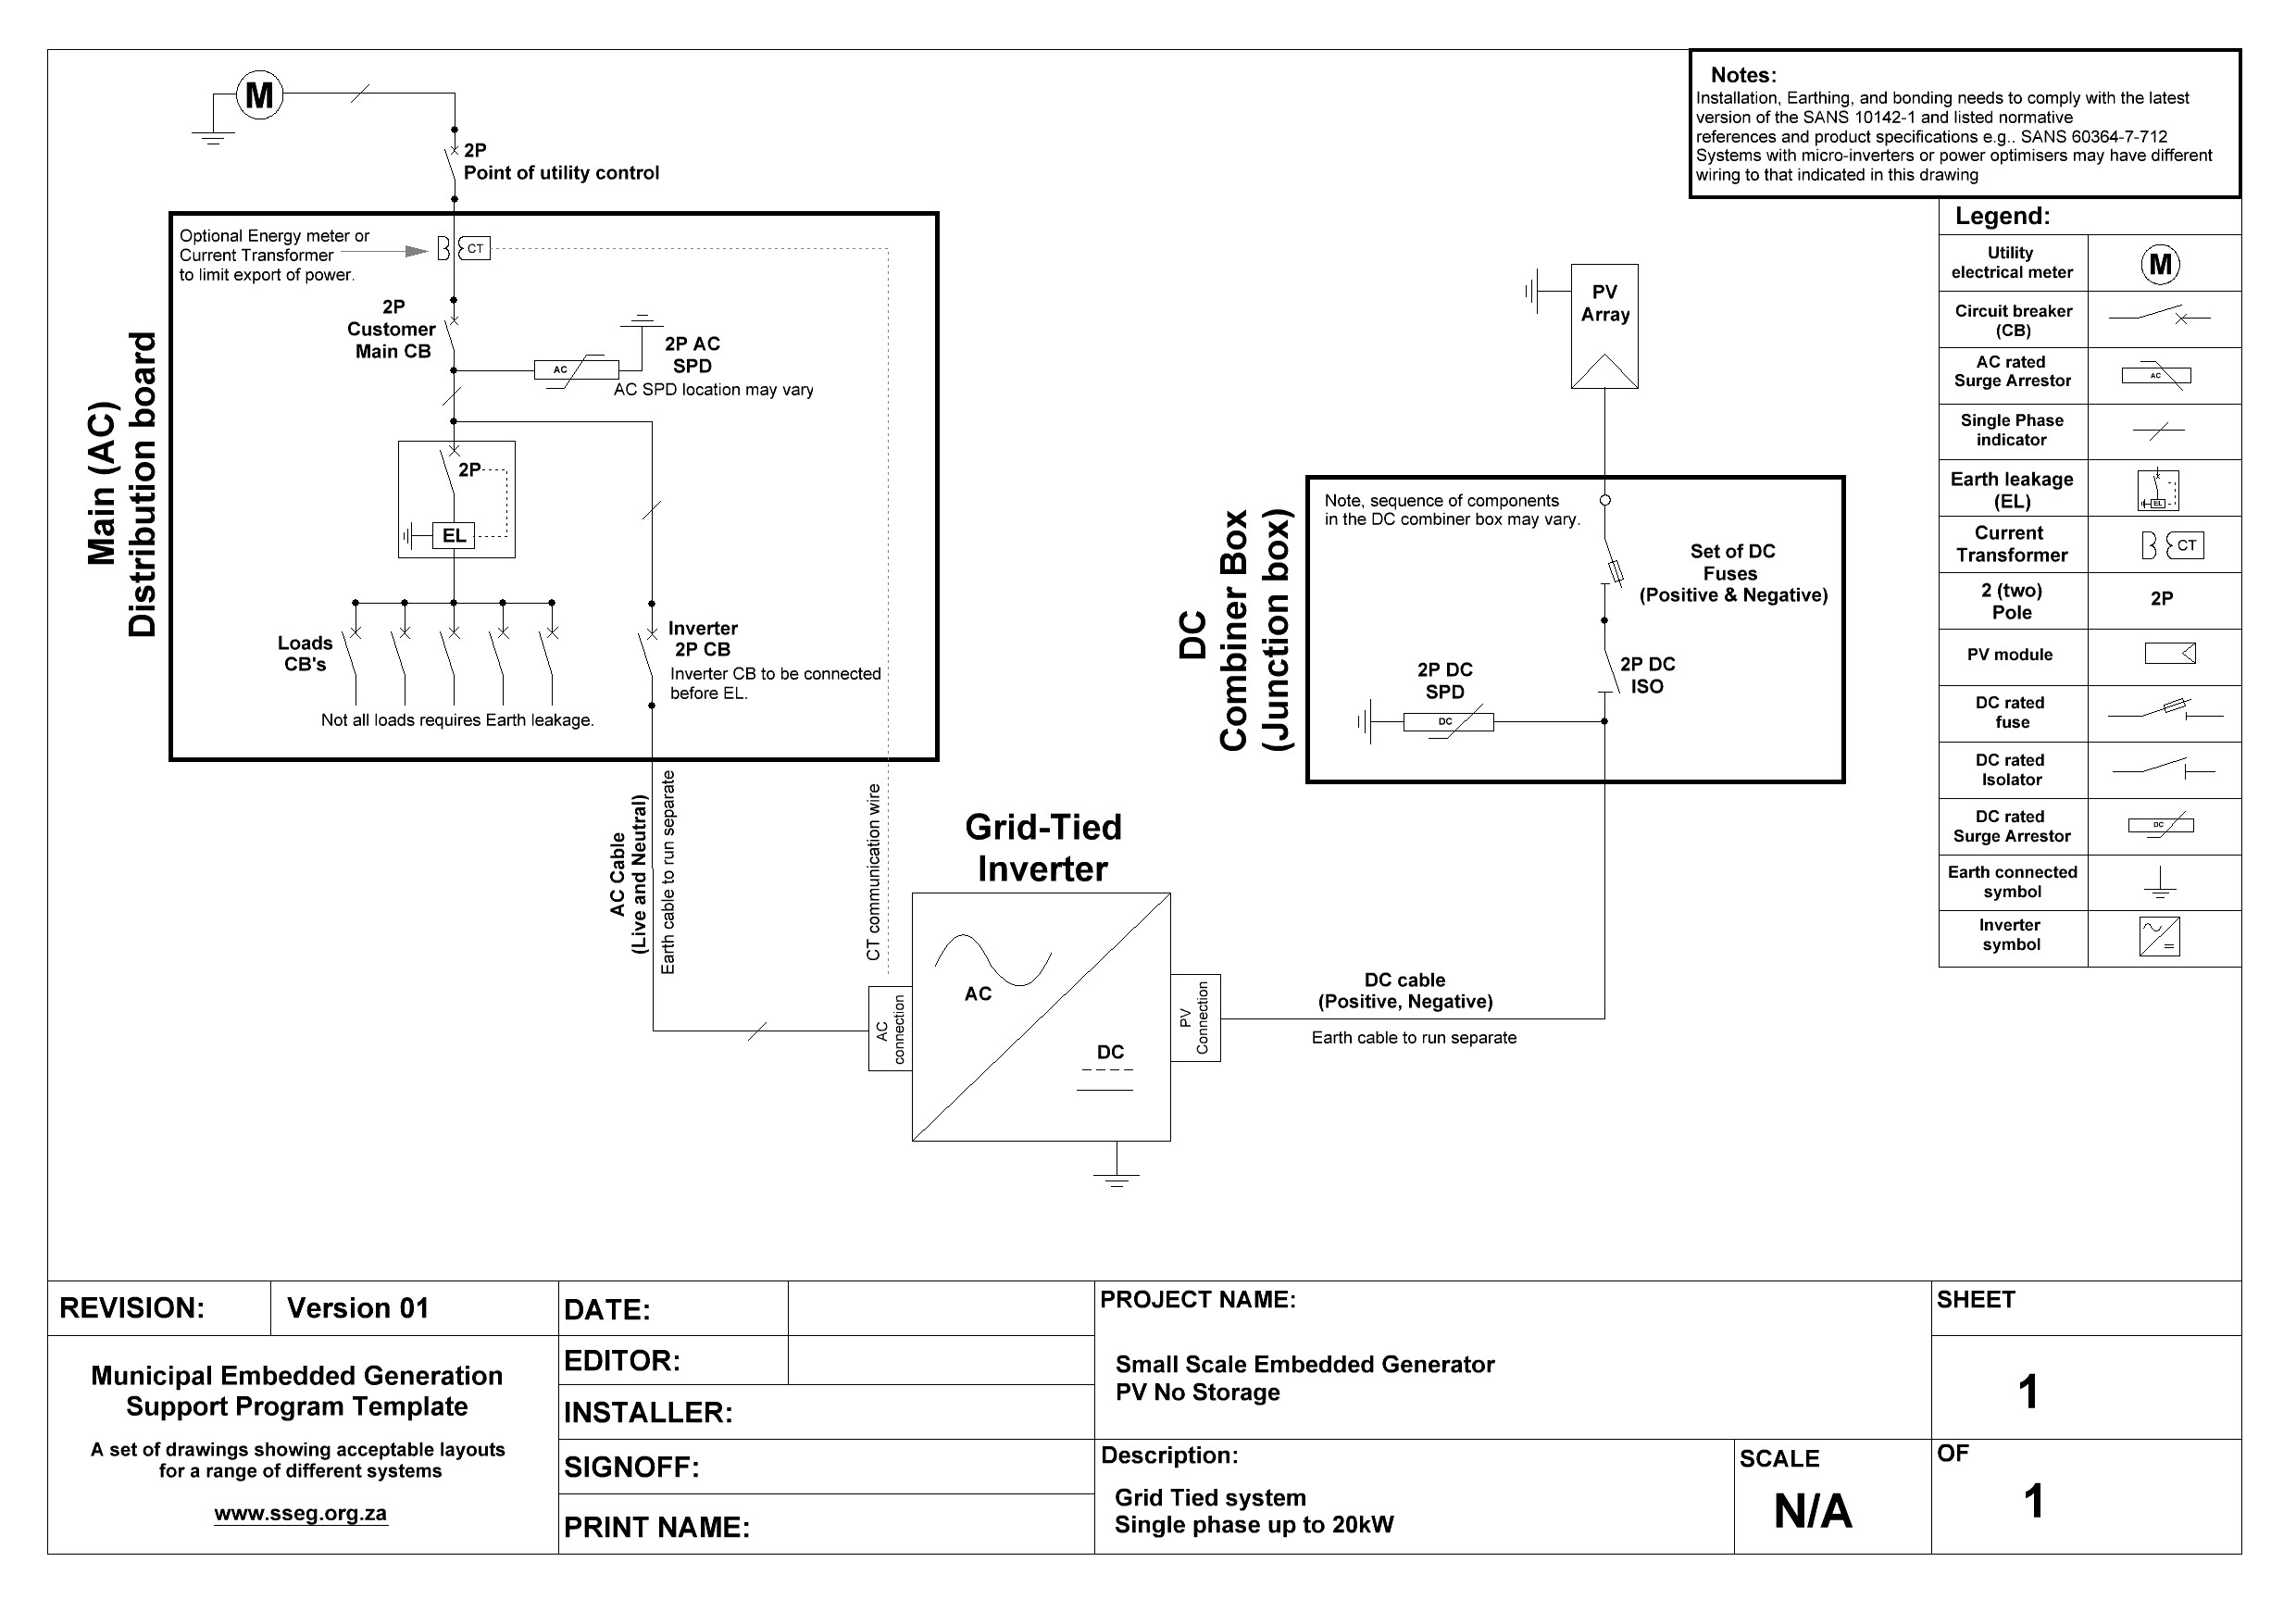fuse: (1585, 527, 1635, 615)
ground: (148, 116, 260, 170), (1497, 244, 1555, 343), (1333, 664, 1386, 763), (596, 294, 689, 346), (1077, 1158, 1158, 1204), (381, 511, 427, 559)
switch: (309, 605, 381, 708), (471, 615, 527, 719), (523, 612, 578, 714), (420, 425, 483, 511), (422, 615, 478, 708), (1572, 636, 1632, 712), (378, 613, 422, 712), (420, 130, 485, 188), (420, 301, 474, 355)
transformer: (418, 227, 516, 269)
